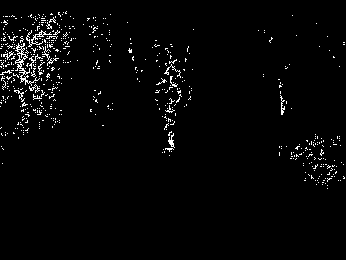person: (153, 75, 181, 153)
